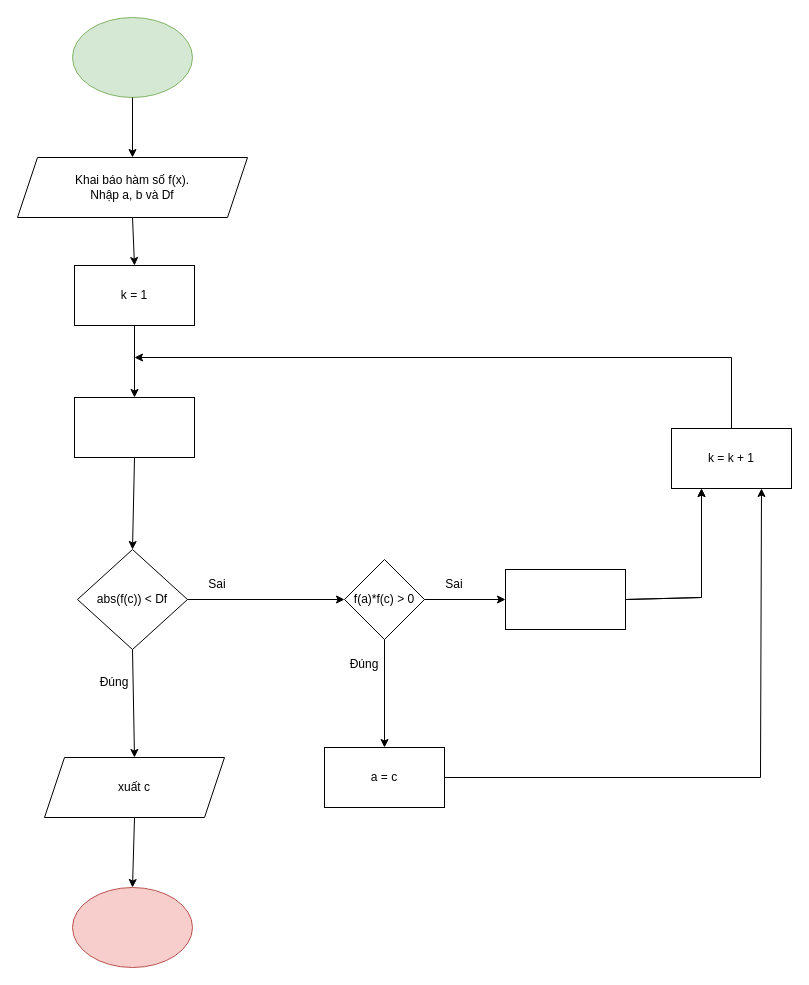
The diagram is 809 pixels wide and 985 high, and some of its shapes have lost their labels. The shapes that lost their labels are listed below. From the top down, each one's centre as x and y in pixels, then its label:
(132,57): Bắt đầu
(134,427): c = (a + b) / 2
(565,599): b = c
(132,927): Kết thúc
